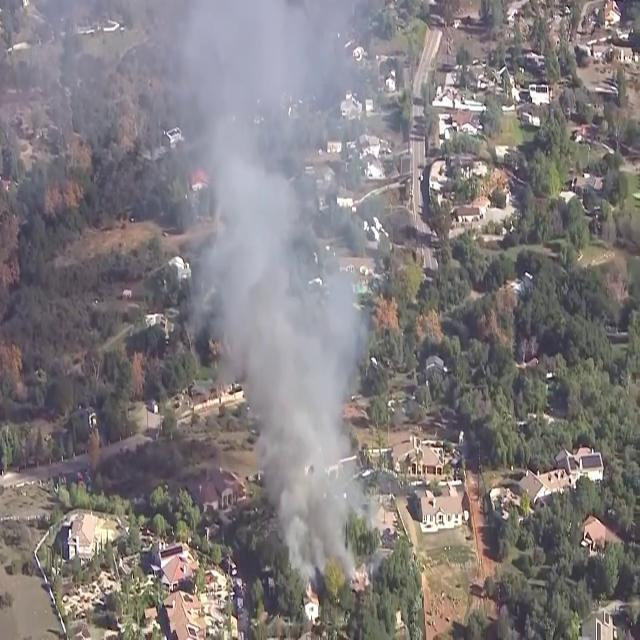Smoke: (140, 1, 390, 576)
